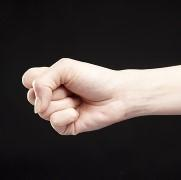gu-: (21, 57, 117, 136)
